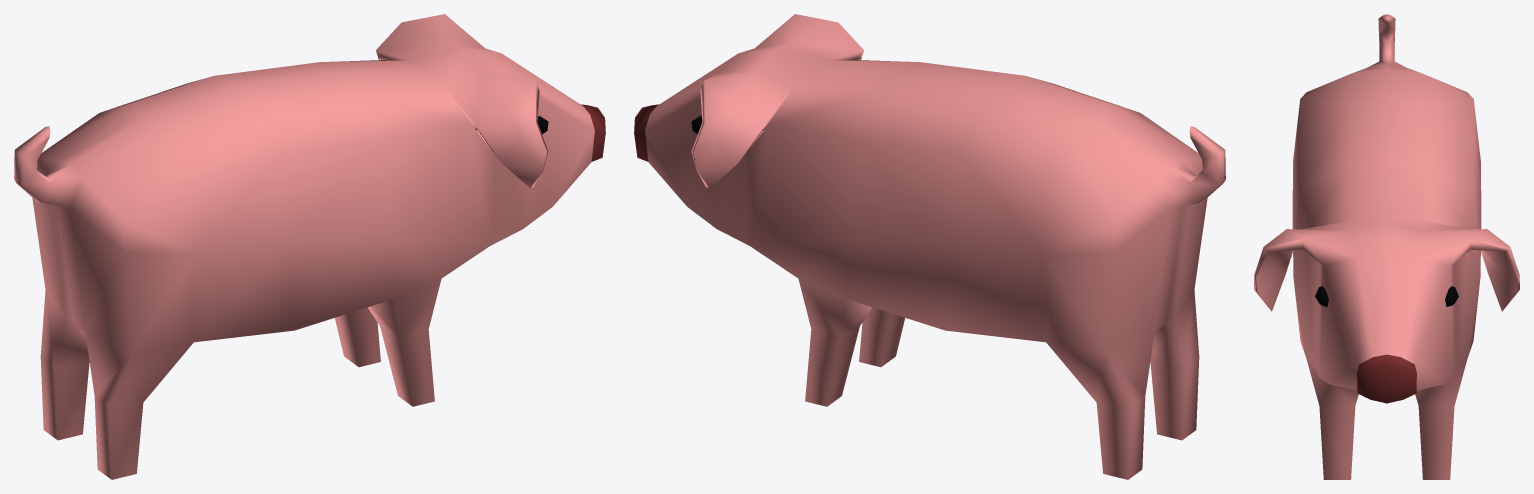
Rendered from Pig_Toy.fbx.
3 views of the same model, side by side, from view 1: azimuth 30°, elevation 25°; view 2: azimuth 150°, elevation 25°; view 3: azimuth 270°, elevation 25° (orthographic). The views are drawn at different scales.
Visible parts, largest first — view 1: ToyPig_a; view 2: ToyPig_a; view 3: ToyPig_a.
Part boxes in pixels (x1=…): ToyPig_a: x1=14, y1=14, x2=605, y2=479; ToyPig_a: x1=634, y1=14, x2=1225, y2=479; ToyPig_a: x1=1254, y1=14, x2=1519, y2=479.
Size of the model in its own units: 1.02 by 0.5621 by 0.4391.
